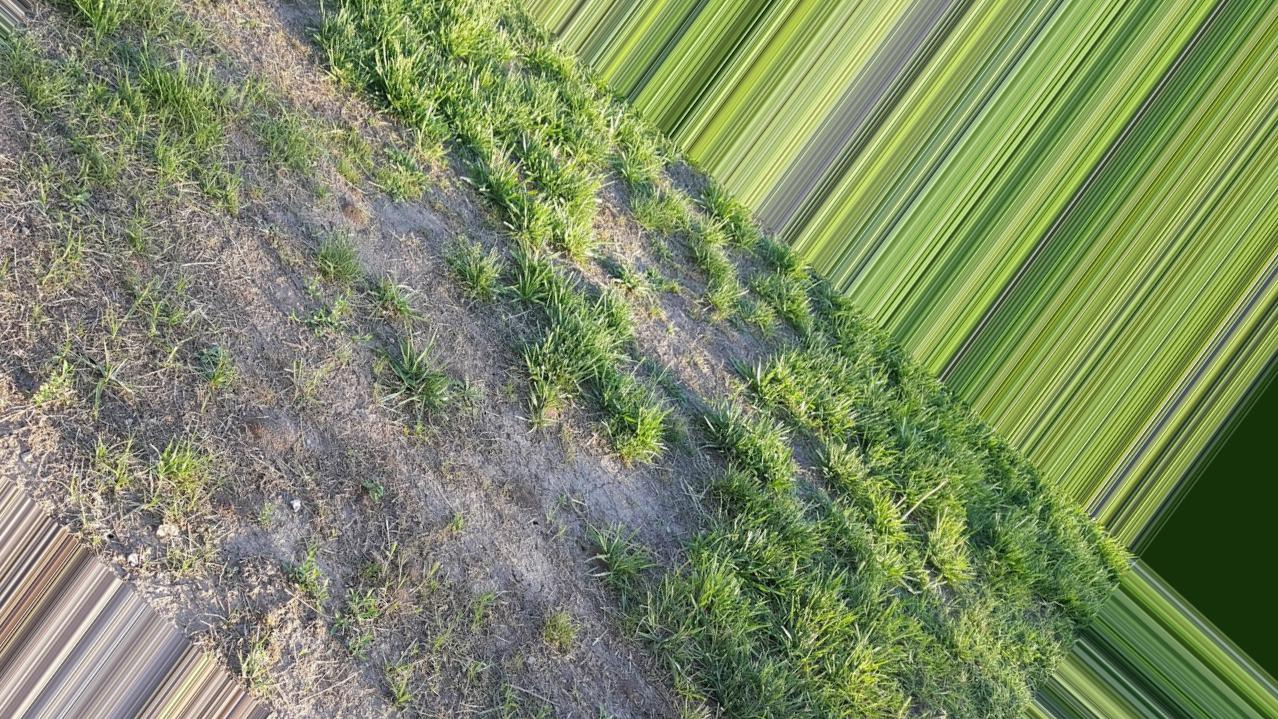patch: (281, 558, 566, 703), (282, 86, 456, 244), (617, 208, 752, 397), (356, 404, 528, 539), (126, 434, 319, 547), (111, 121, 267, 253), (119, 295, 281, 408), (600, 466, 696, 540)
